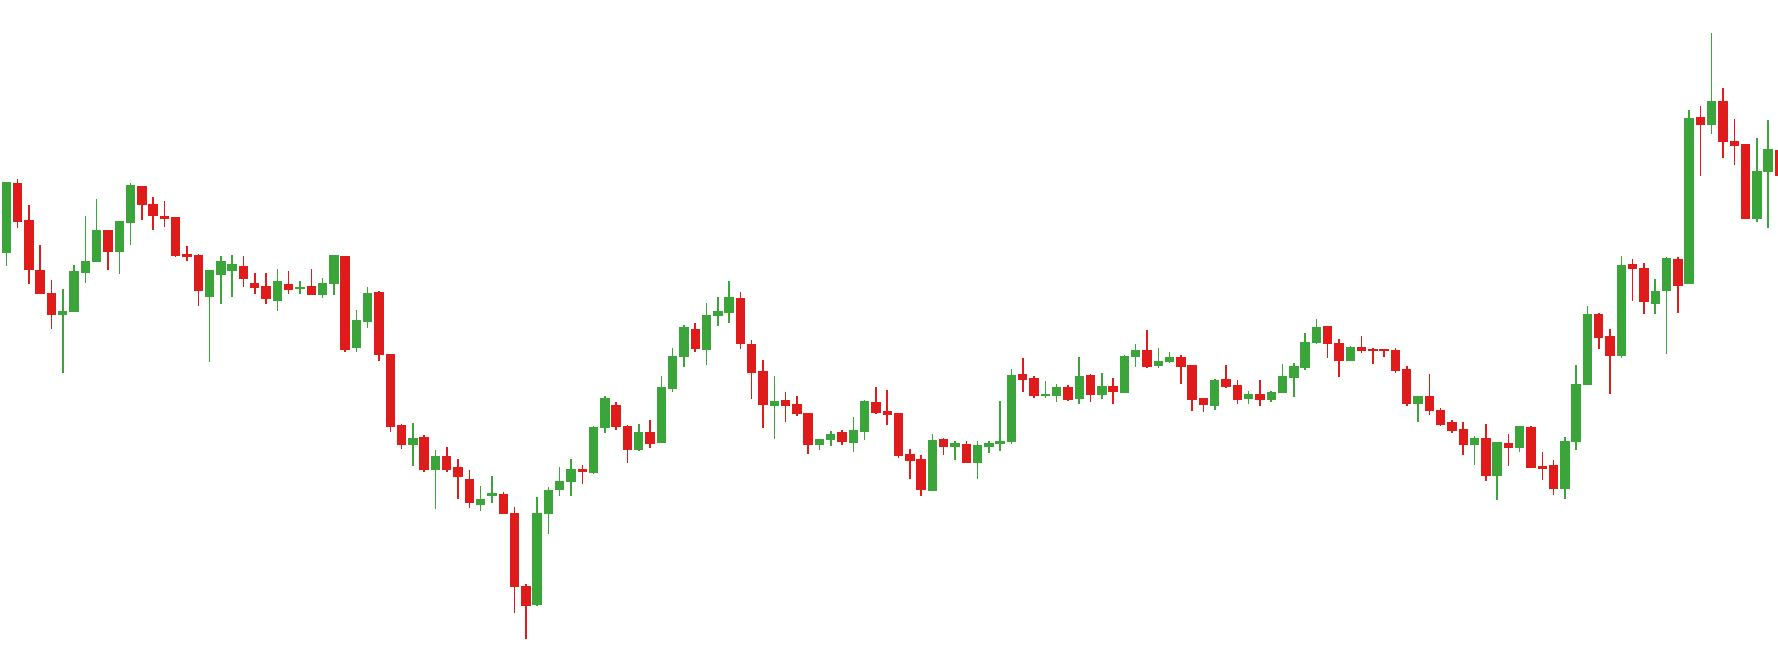buy: (1492, 437, 1574, 499)
sell: (274, 256, 352, 297)
